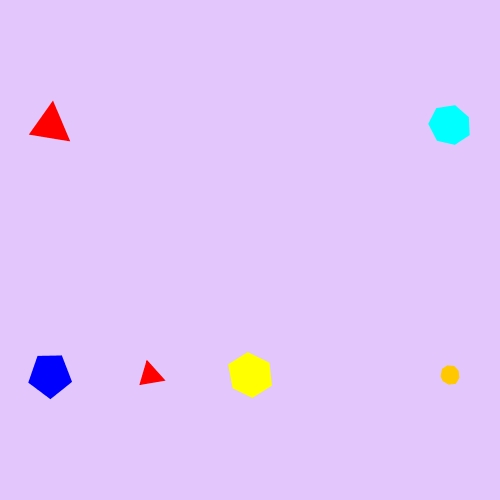heptagon: (426, 102, 475, 149)
hexagon: (223, 352, 278, 398)
nonagon: (436, 361, 465, 389)
pentagon: (25, 350, 76, 401)
triangle: (28, 102, 73, 149), (134, 359, 166, 392)
